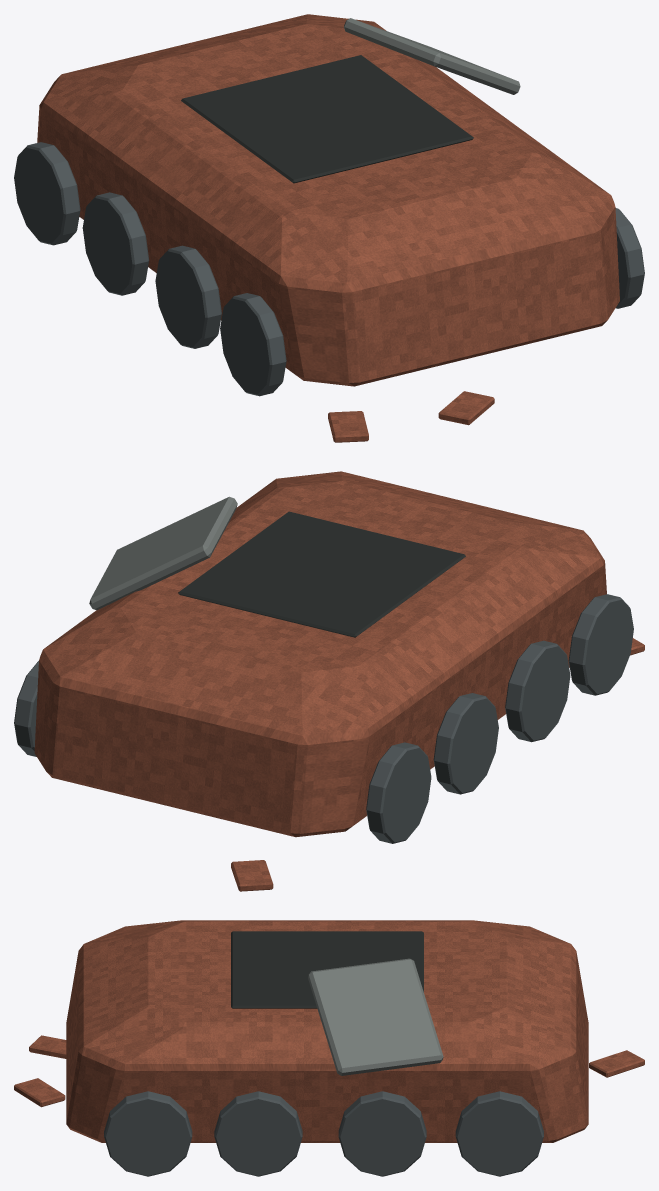
3 views of the same model, one above another, from view 1: azimuth 30°, elevation 25°; view 2: azimuth 150°, elevation 25°; view 3: azimuth 270°, elevation 25° (orthographic). The views are drawn at different scales.
Visible parts, largest first — view 1: ST2-P07_Mesh; view 2: ST2-P07_Mesh; view 3: ST2-P07_Mesh.
Part boxes in pixels (<box>): ST2-P07_Mesh: <box>14,14,644,442</box>; ST2-P07_Mesh: <box>14,471,644,891</box>; ST2-P07_Mesh: <box>14,920,644,1176</box>.
Bounding box in the file's own units: 2.78 × 1.43 × 4.58.
Materials: 4 (1 with a texture image).
